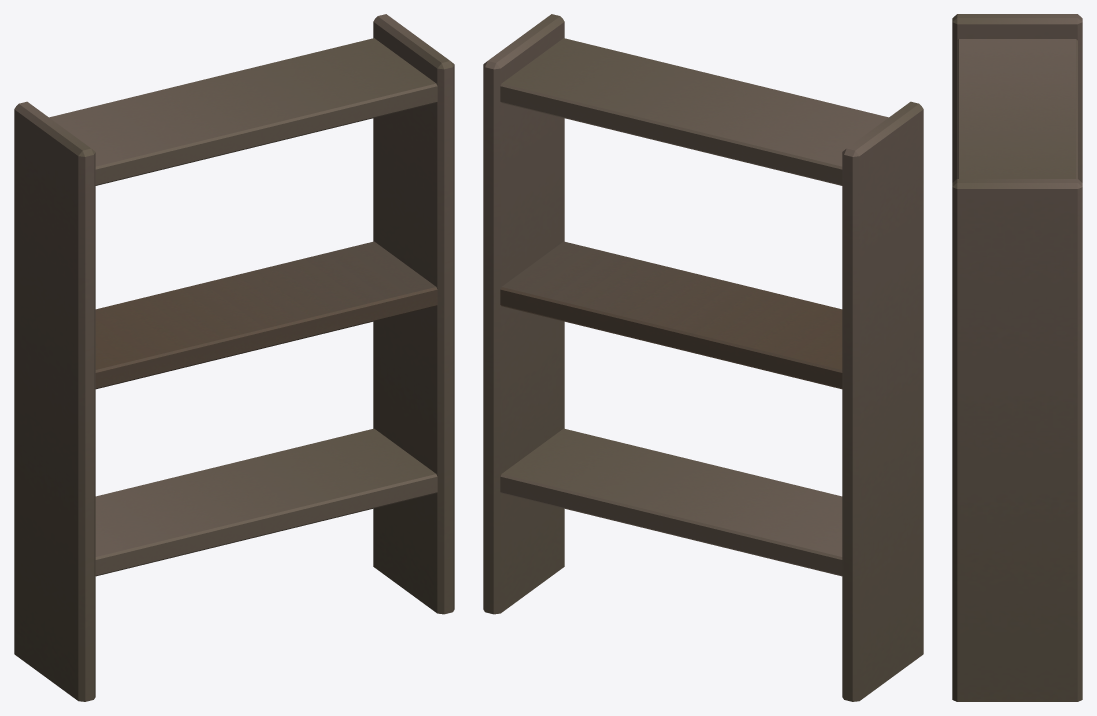
File: Cupboard_3.fbx
The picture shows the model from 3 angles, left to right: view 1: azimuth 30°, elevation 25°; view 2: azimuth 150°, elevation 25°; view 3: azimuth 270°, elevation 25°; orthographic projection. The views are drawn at different scales.
Parts seen in each view (by area): view 1: pCube796; view 2: pCube796; view 3: pCube796.
Part boxes in pixels (box(x1,y1,x2,y2)): pCube796: box(14, 14, 454, 701); pCube796: box(483, 14, 923, 701); pCube796: box(952, 14, 1082, 701).
Size of the model in its own units: 157 by 219 by 50.
